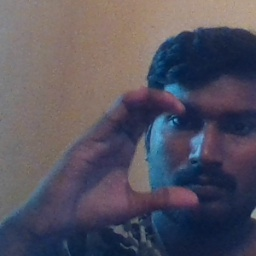C: (104, 83, 207, 219)
